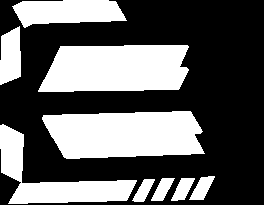parkingspot: (42, 111, 202, 137), (52, 131, 204, 158), (38, 67, 188, 91), (49, 45, 188, 70), (12, 0, 126, 27), (8, 180, 136, 203), (0, 124, 23, 182), (0, 26, 20, 84), (189, 176, 214, 199), (151, 178, 174, 200), (171, 178, 194, 200), (132, 179, 154, 201)
